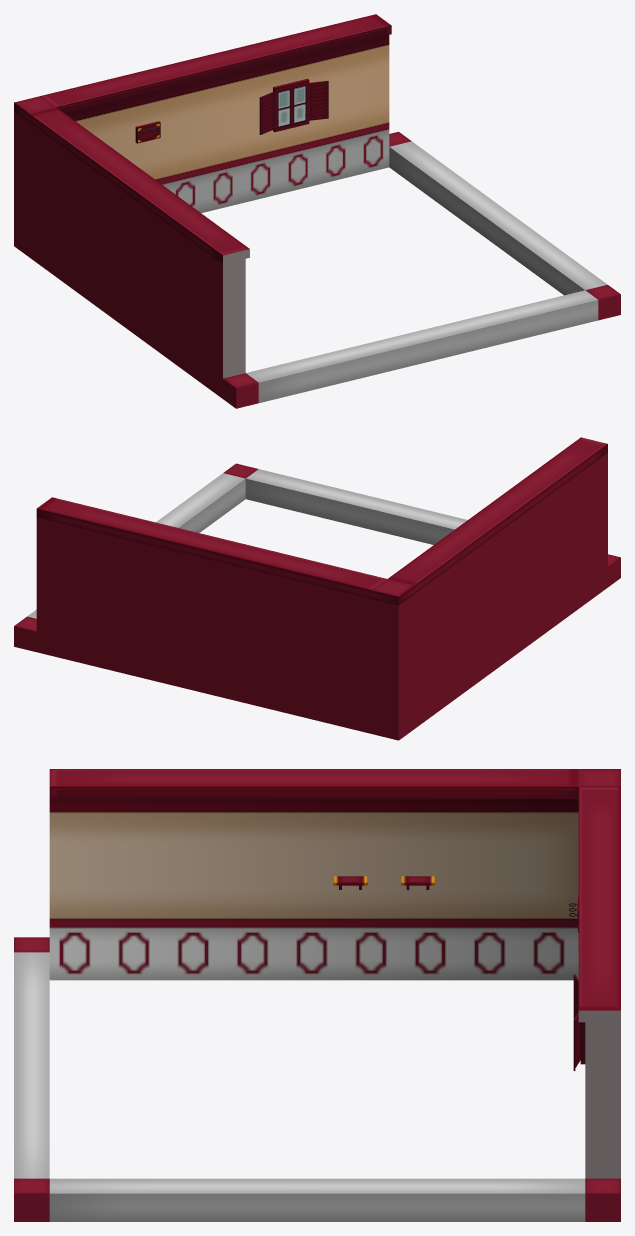
Rendered from Wall 2.FBX.
3 renders of one model, top to bottom at view 1: azimuth 30°, elevation 25°; view 2: azimuth 150°, elevation 25°; view 3: azimuth 270°, elevation 25°, orthographic. The views are drawn at different scales.
Parts seen in each view (by area): view 1: wall, Object142; view 2: wall; view 3: wall, Object142.
Boxes of the visible parts, x1=… form: wall: x1=14, y1=14, x2=620, y2=408; Object142: x1=259, y1=78, x2=328, y2=134; wall: x1=14, y1=437, x2=620, y2=740; wall: x1=14, y1=769, x2=620, y2=1221; Object142: x1=573, y1=974, x2=585, y2=1070.
Size of the model in its own units: 17 by 6.07 by 17.
